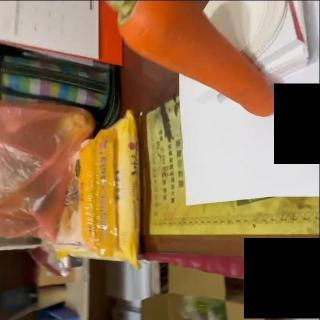carrot: (105, 0, 281, 118)
